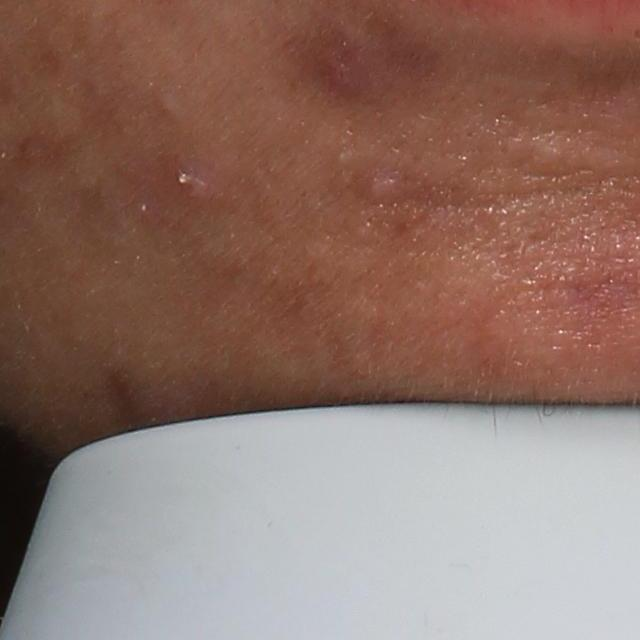comedo: (150, 91, 182, 118)
hypertrophic_scar: (514, 128, 619, 182)
papule: (354, 167, 402, 206)
